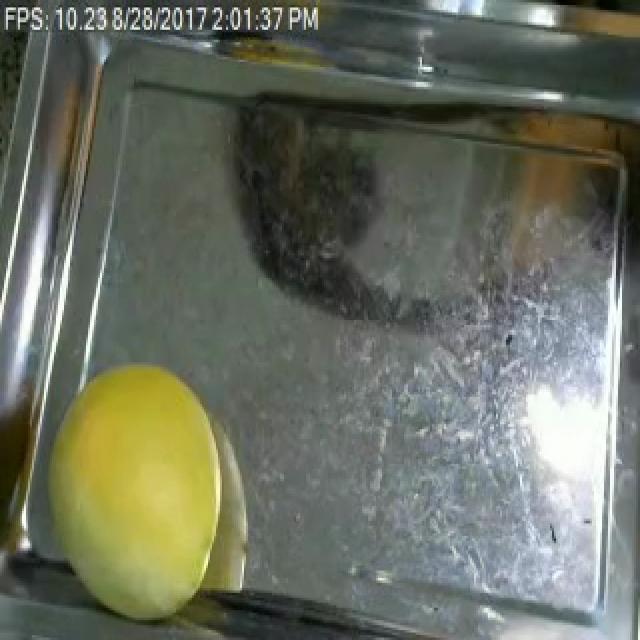fruit: (6, 335, 282, 640)
